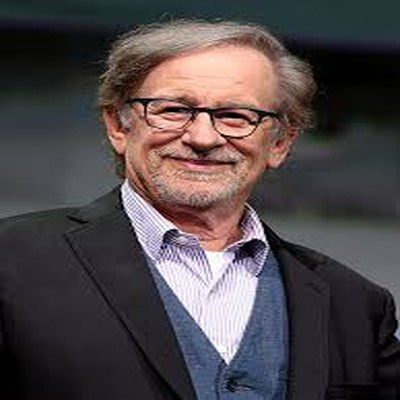eywear: (104, 75, 314, 163)
